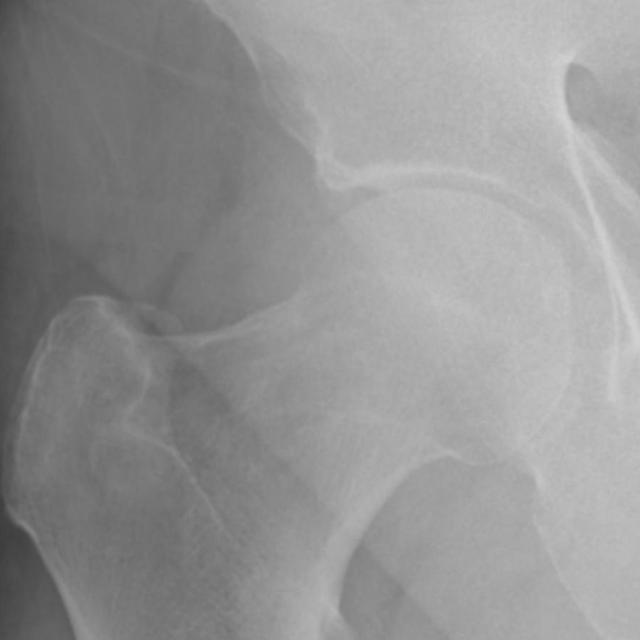Fitted_femural_head: (292, 186, 432, 292)
